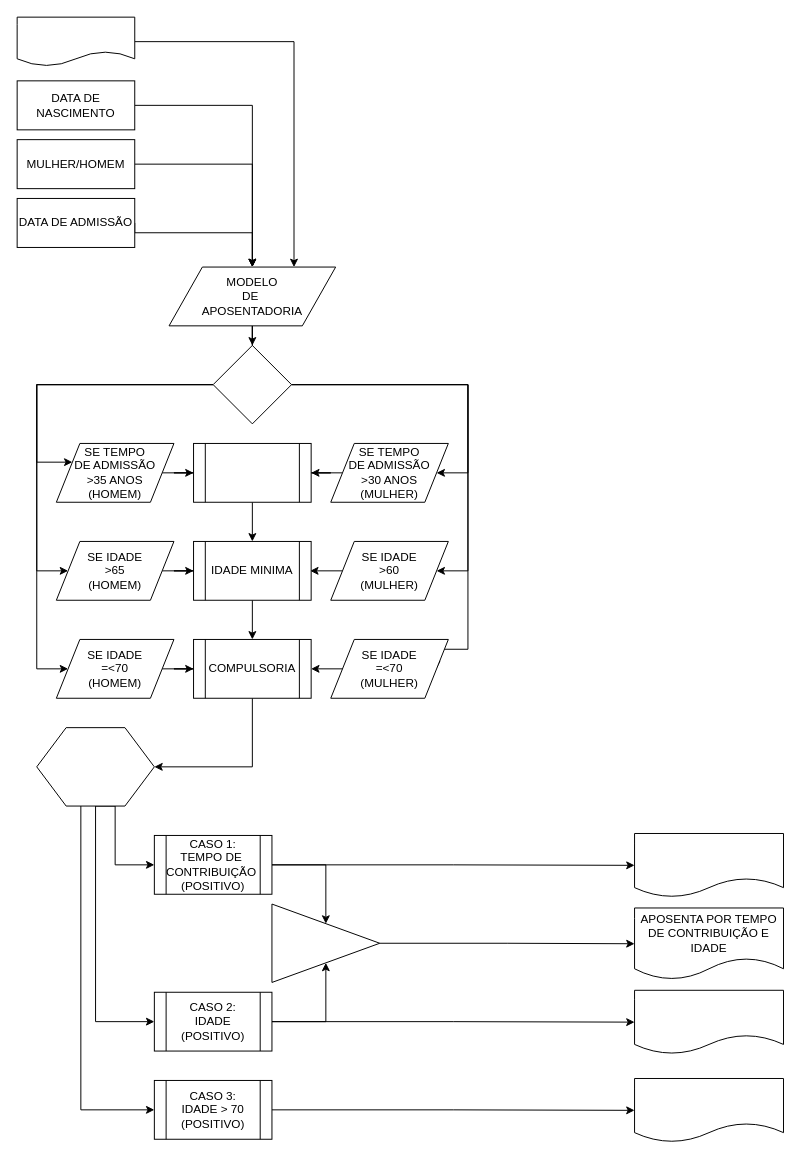
The diagram is 801 pixels wide and 1159 high, and some of its shapes have lost their labels. Each missing label, with the centre of its shape:
APOSENTA COMPULSÓRIAMENTE: (709,1110)
APOSENTA POR IDADE MINIMA: (709,1021)
APOSENTA POR TEMPO DE CONTRIBUIÇÃO: (709,865)
DATA ATUAL: (75,41)
HOMEM / MULHER: (252,384)
SE AMBOS POSITIVO: (325,942)
SELEÇÃO DE CASOS: (95,766)
TEMPO DE CONTRIBUIÇÃO: (252,472)
